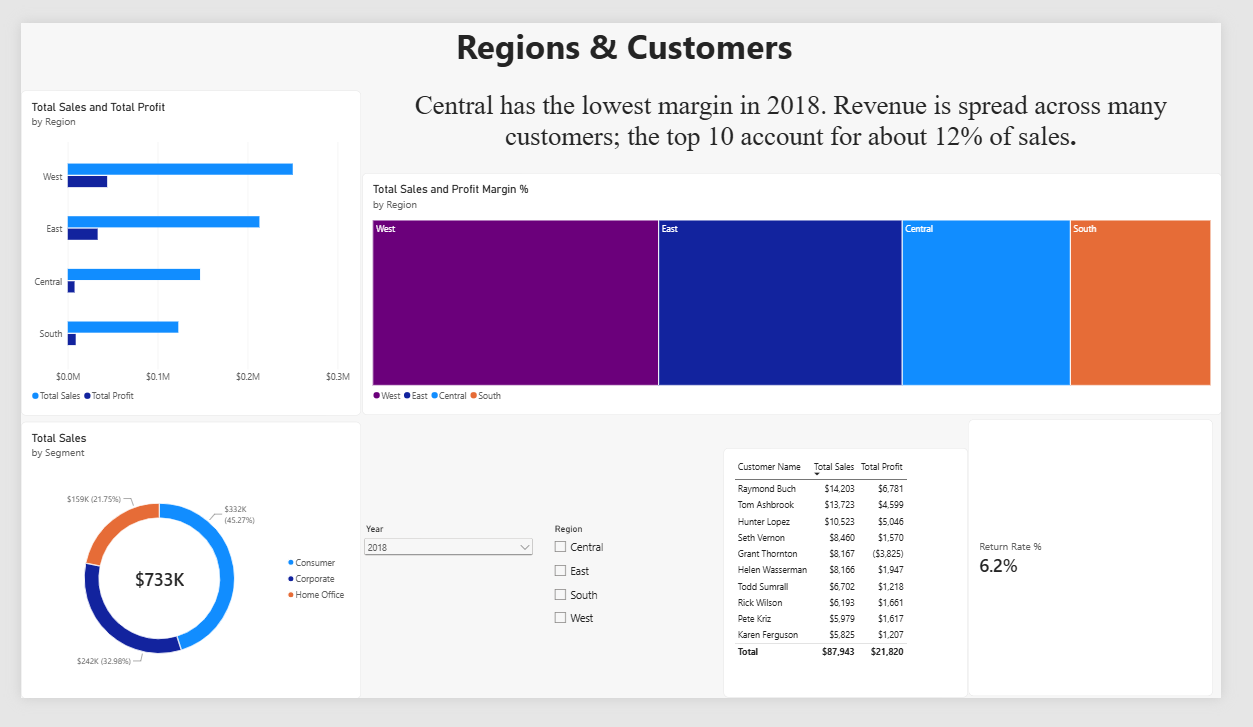

The dashboard page shown, as its layout file describes it:
{"tool":"powerbi","page":{"name":"Regions & Customers","canvas":[1920,1080],"ordinal":2},"visuals":[{"type":"textbox","box":[10.3,0,1910.1,107],"z":0},{"type":"clusteredBarChart","fields":{"Category":["Fact_Orders.Region"],"Y":["Fact_Orders.Total Sales","Fact_Orders.Total Profit"]},"box":[0,107.1,543.8,519.6],"z":1},{"type":"donutChart","fields":{"Category":["Dim_Customer.Segment"],"Y":["Fact_Orders.Total Sales"]},"box":[0,637,544,443],"z":2},{"type":"tableEx","fields":{"Values":["Dim_Customer.Customer Name","Fact_Orders.Total Sales","Fact_Orders.Total Profit"]},"box":[1124.9,680.3,391.1,399.1],"z":3},{"type":"cardVisual","fields":{"Data":["Fact_Orders.Return Rate %"]},"box":[1515.1,634.4,391,443],"z":4},{"type":"slicer","fields":{"Values":["Dim_Date.Year"]},"box":[544.7,799.3,280,280],"z":5},{"type":"slicer","fields":{"Values":["Fact_Orders.Region"]},"box":[845.2,799.3,280,280],"z":6},{"type":"textbox","box":[544.7,106.4,1375.3,133.6],"z":7},{"type":"treemap","fields":{"Group":["Fact_Orders.Region"],"Values":["Fact_Orders.Total Sales"]},"box":[545,240,1375,387],"z":8}]}

Visuals, with their boxes on the page's 1920x1080 design canvas (x1, y1, x2, y2). These are canvas units, not pixel positions in the 1253x727 screenshot, which may show the page scaled, cropped or inside an application window:
textbox: 10:0:1920:107
clusteredBarChart - Fact_Orders.Region x Fact_Orders.Total Sales: 0:107:544:627
donutChart - Dim_Customer.Segment x Fact_Orders.Total Sales: 0:637:544:1080
tableEx - Dim_Customer.Customer Name x Fact_Orders.Total Sales: 1125:680:1516:1079
cardVisual - Fact_Orders.Return Rate %: 1515:634:1906:1077
slicer - Dim_Date.Year: 545:799:825:1079
slicer - Fact_Orders.Region: 845:799:1125:1079
textbox: 545:106:1920:240
treemap - Fact_Orders.Region x Fact_Orders.Total Sales: 545:240:1920:627
